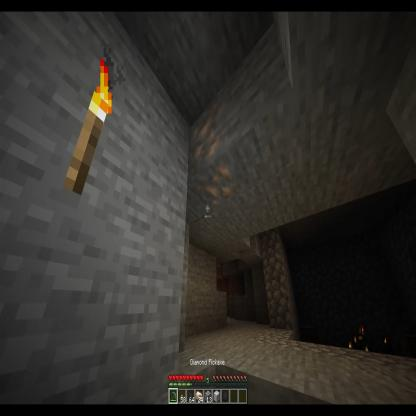iron ore: (188, 100, 242, 212)
